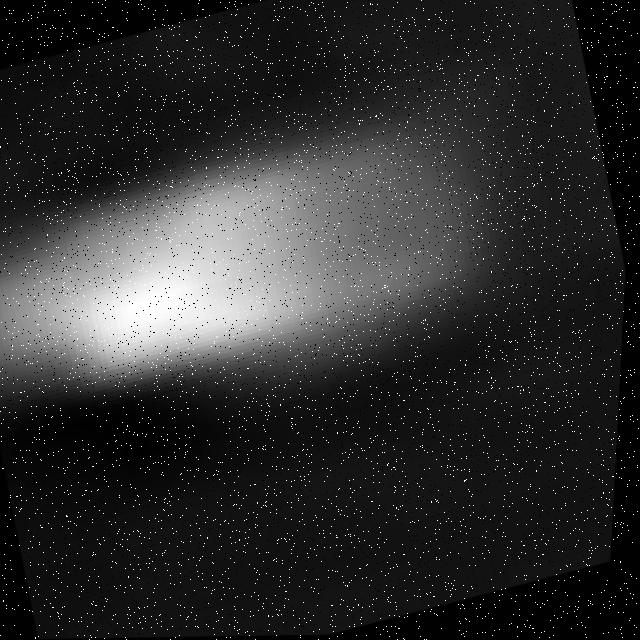person: (1, 88, 524, 452)
